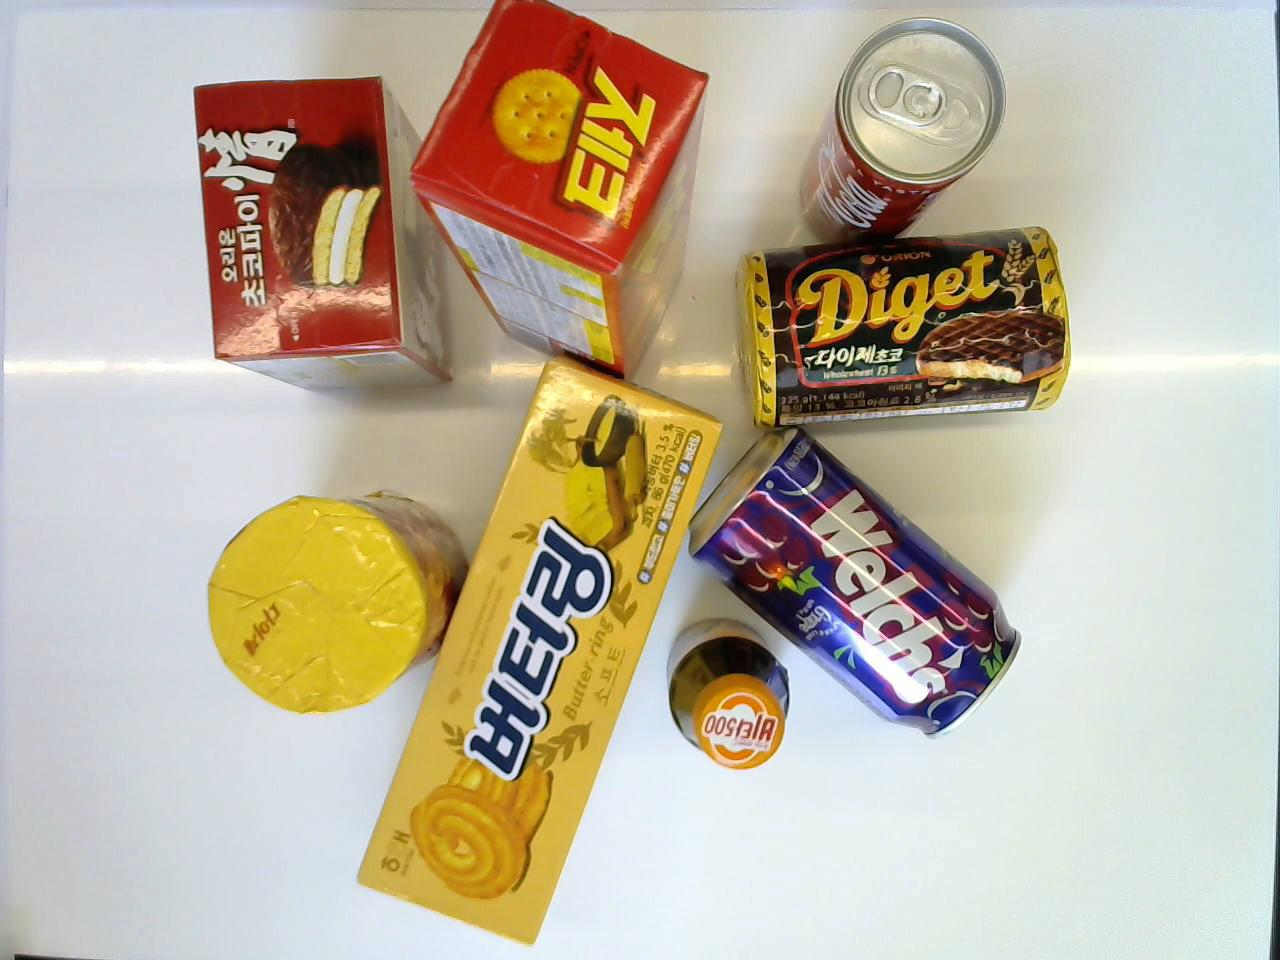buttering: (353, 354, 725, 948)
chocopie: (190, 76, 461, 403)
coke: (793, 15, 1007, 250)
diget_choco: (732, 222, 1074, 437)
diget_ori: (205, 489, 468, 714)
vita500: (665, 618, 792, 773)
welchs: (687, 426, 1024, 741)
zec: (409, 0, 712, 384)
